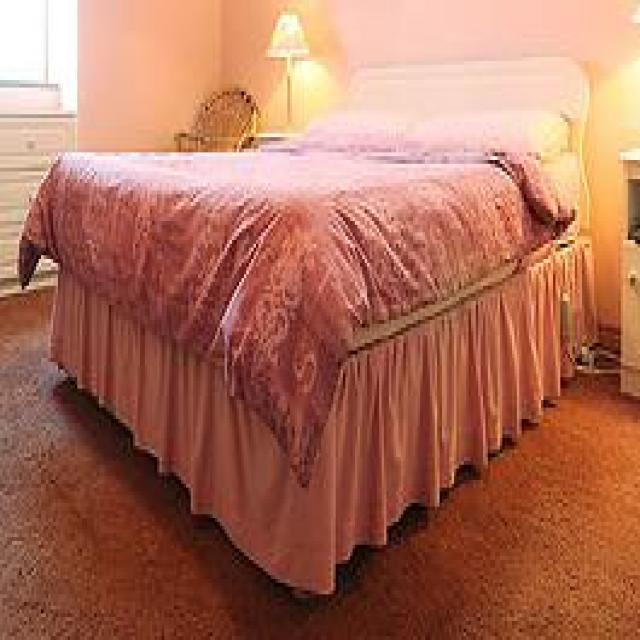bed: (17, 53, 592, 594)
chair: (172, 84, 258, 152)
